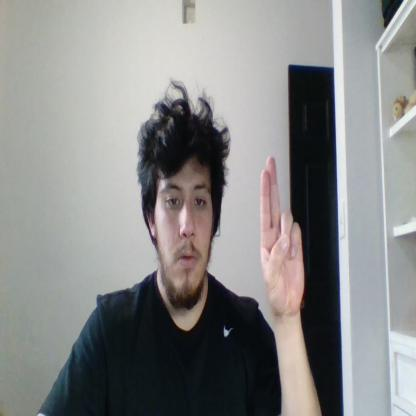U: (260, 155, 305, 316)
